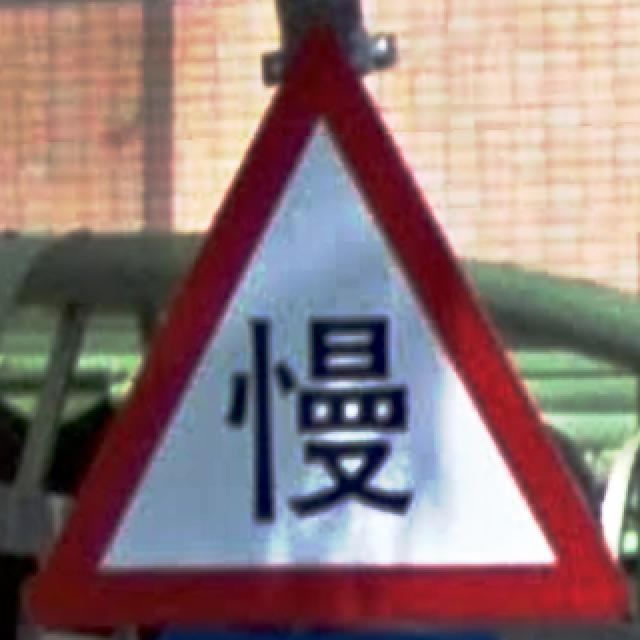slow: (30, 30, 630, 634)
